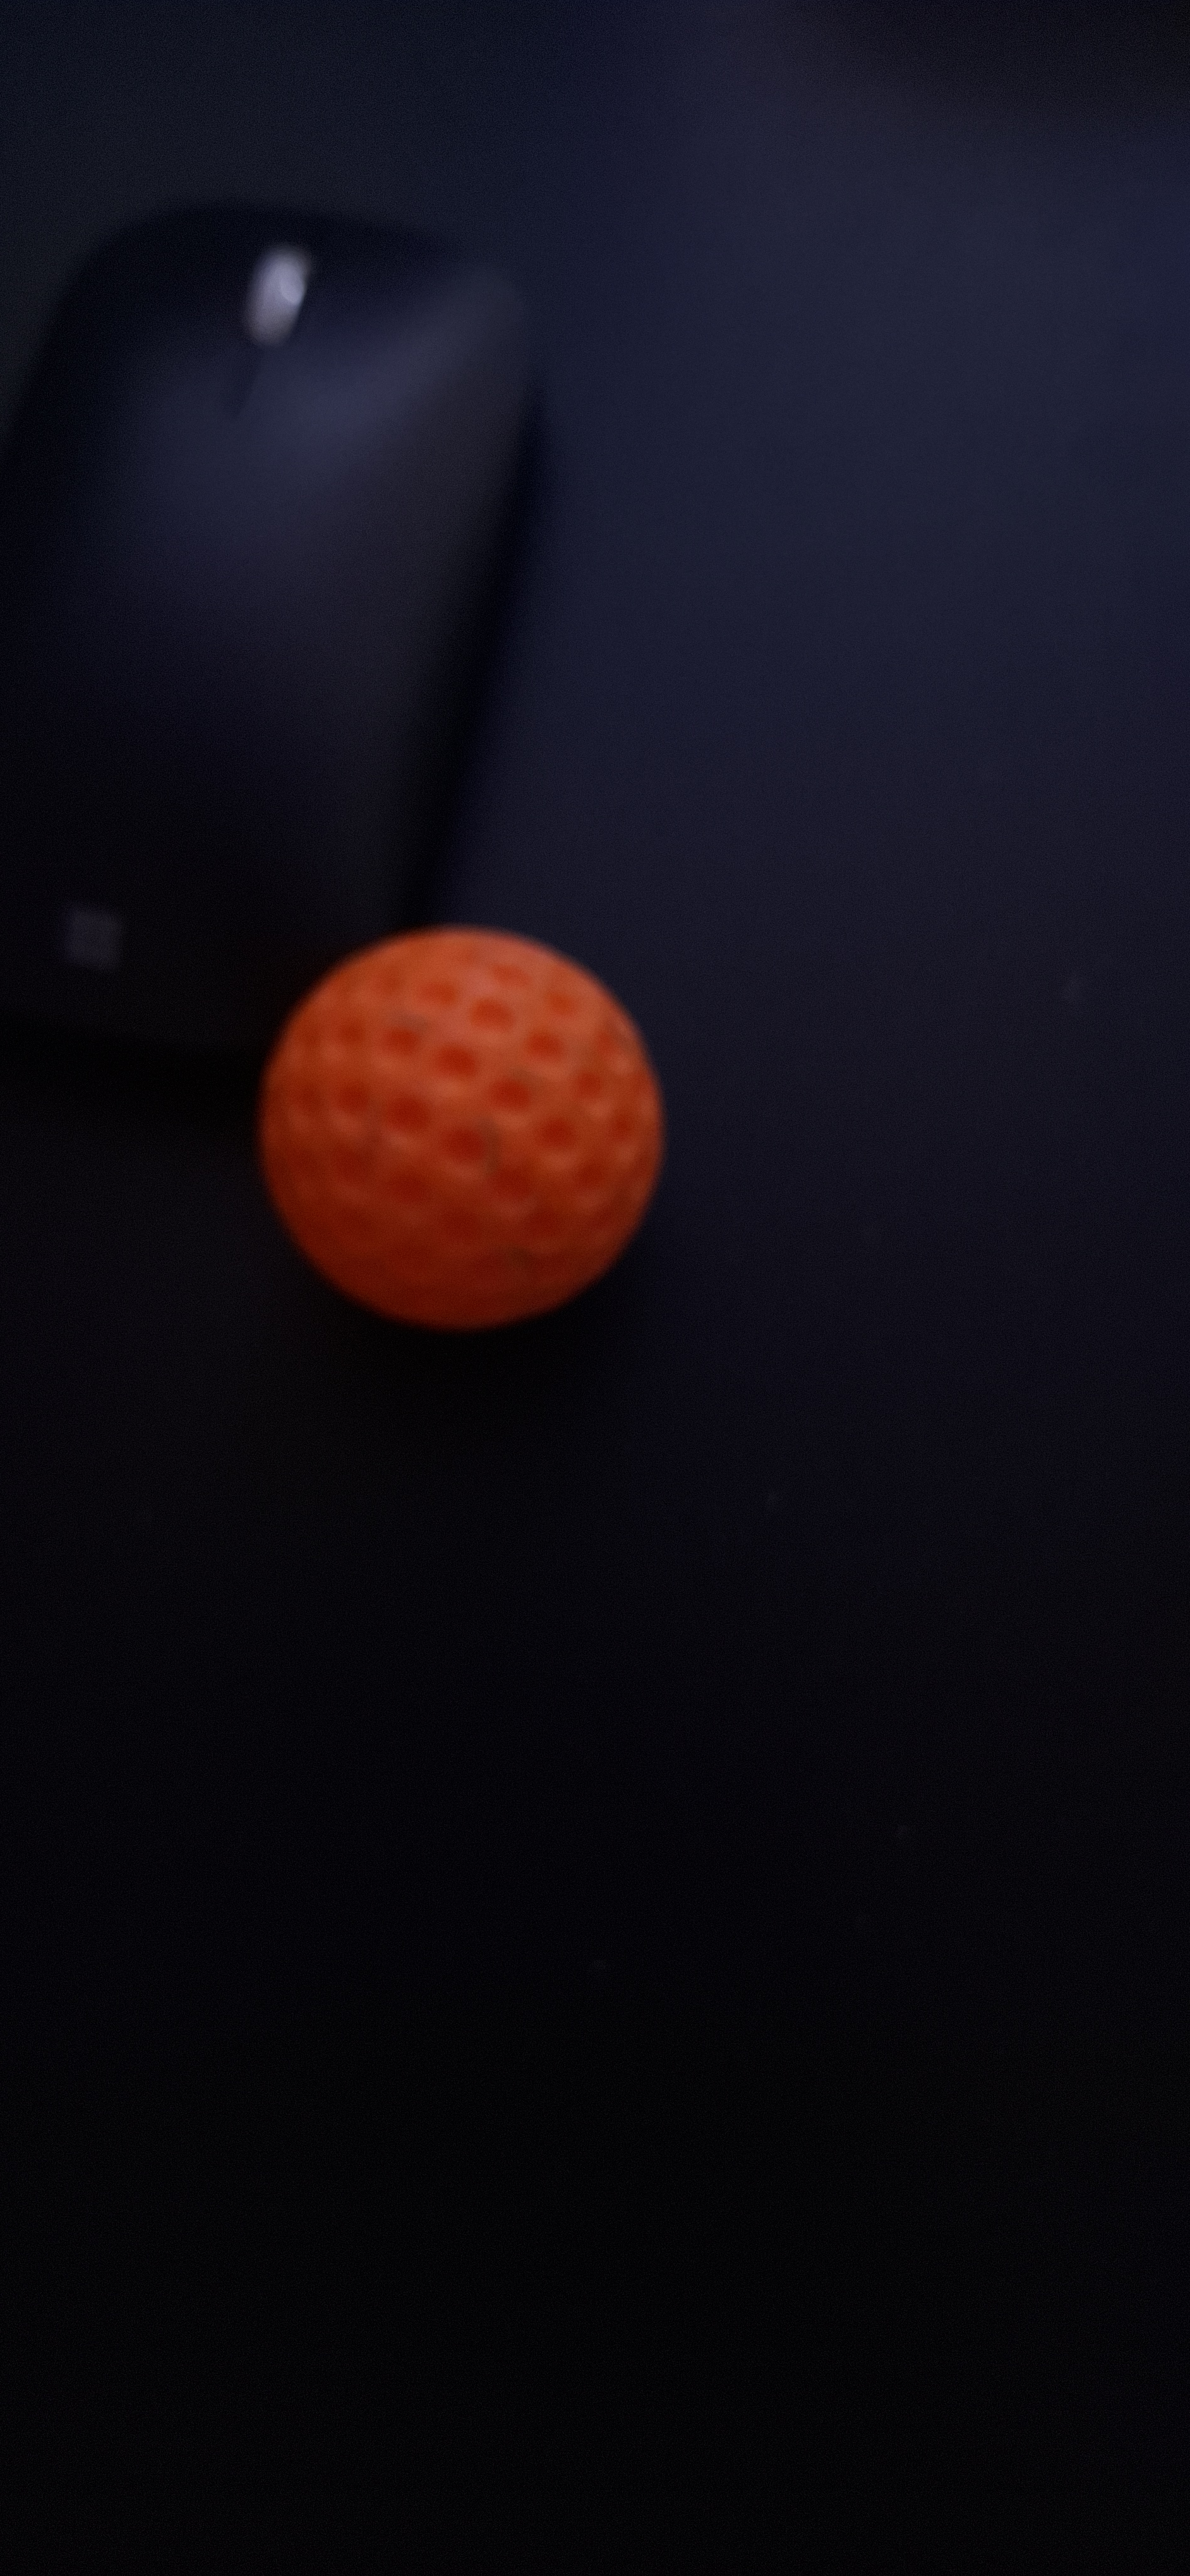ball: (427, 1138, 613, 2039)
